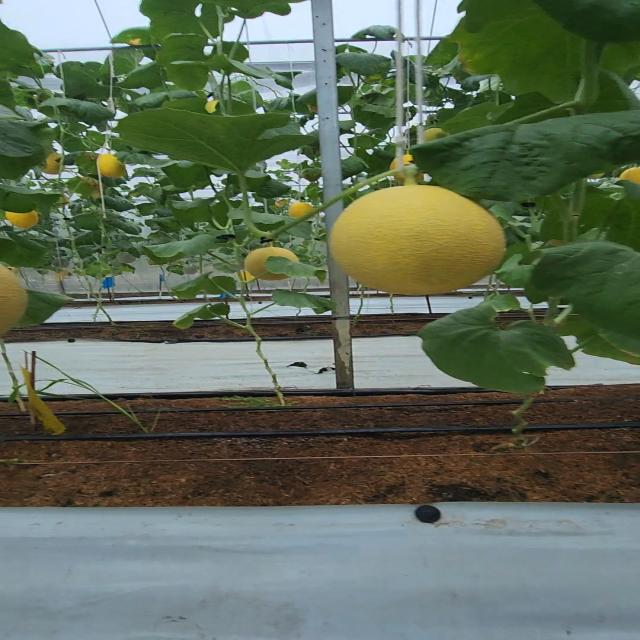Melon: (322, 182, 525, 300)
